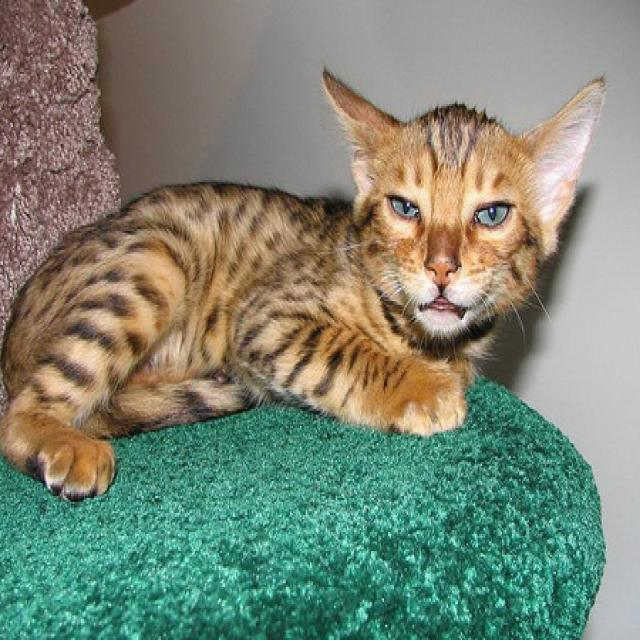Bengal: (0, 51, 613, 504)
